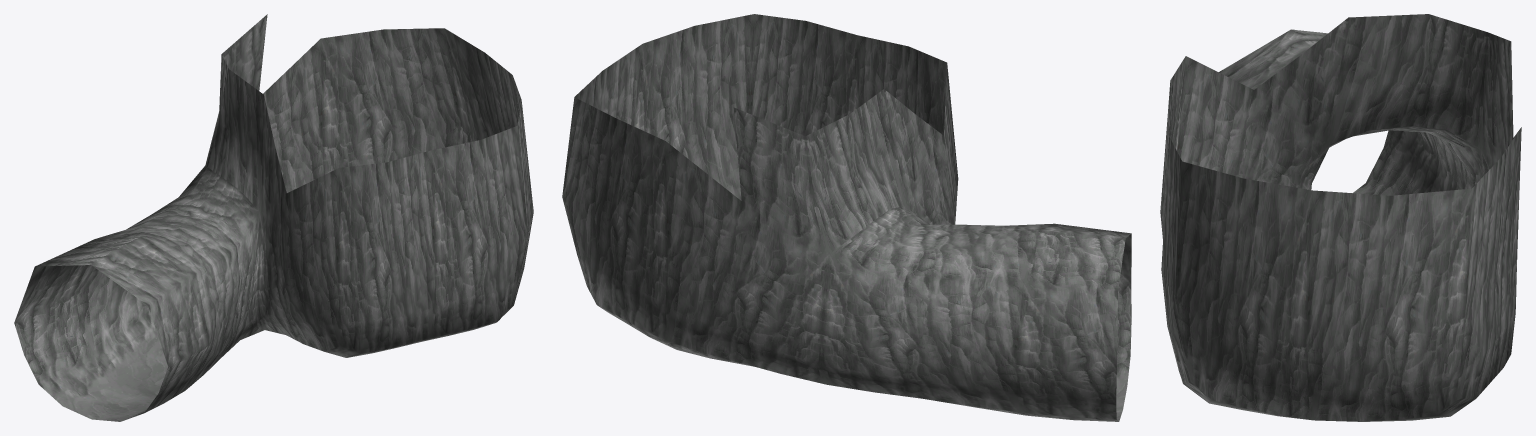
The model's file is SWORDLIGHT20_PS-AREA02-03TRANS_05.fbx.
3 renders of one model, left to right at view 1: azimuth 30°, elevation 25°; view 2: azimuth 150°, elevation 25°; view 3: azimuth 270°, elevation 25°, orthographic. The views are drawn at different scales.
Visible parts, largest first — view 1: SWORDLIGHT20_PS-AREA02-03TRANS_05; view 2: SWORDLIGHT20_PS-AREA02-03TRANS_05; view 3: SWORDLIGHT20_PS-AREA02-03TRANS_05.
Boxes of the visible parts, bbox=[...] form: SWORDLIGHT20_PS-AREA02-03TRANS_05: bbox=[14, 14, 533, 421]; SWORDLIGHT20_PS-AREA02-03TRANS_05: bbox=[562, 14, 1131, 421]; SWORDLIGHT20_PS-AREA02-03TRANS_05: bbox=[1160, 14, 1521, 421].
Bounding box in the file's own units: 256790 × 140522 × 135689.
4 materials, 4 textured.
